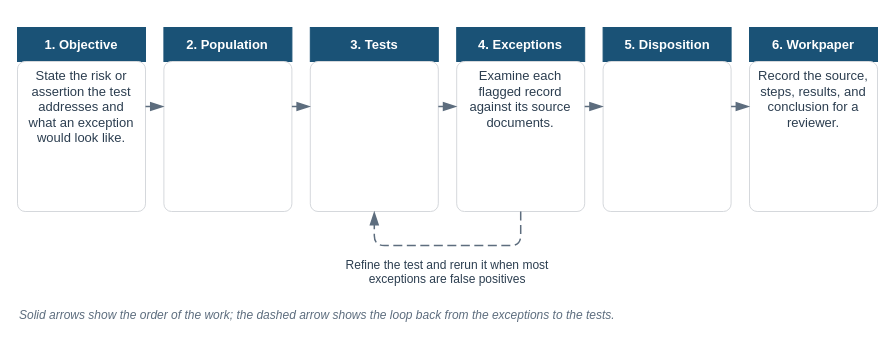
This 895x360 diagram has some shape labels left out. Each missing label, with the centre of its shape:
"Classify each exception: expected, with evidence; follow up; or misstatement." goes at pixel 666 136.
"Import the data and agree its count and total to the ledger before you test it." goes at pixel 227 136.
"Stratify, profile, and flag the records that meet each criterion." goes at pixel 373 136.
